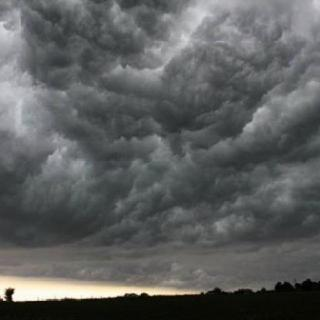Nimbostratus: (0, 0, 320, 296)
